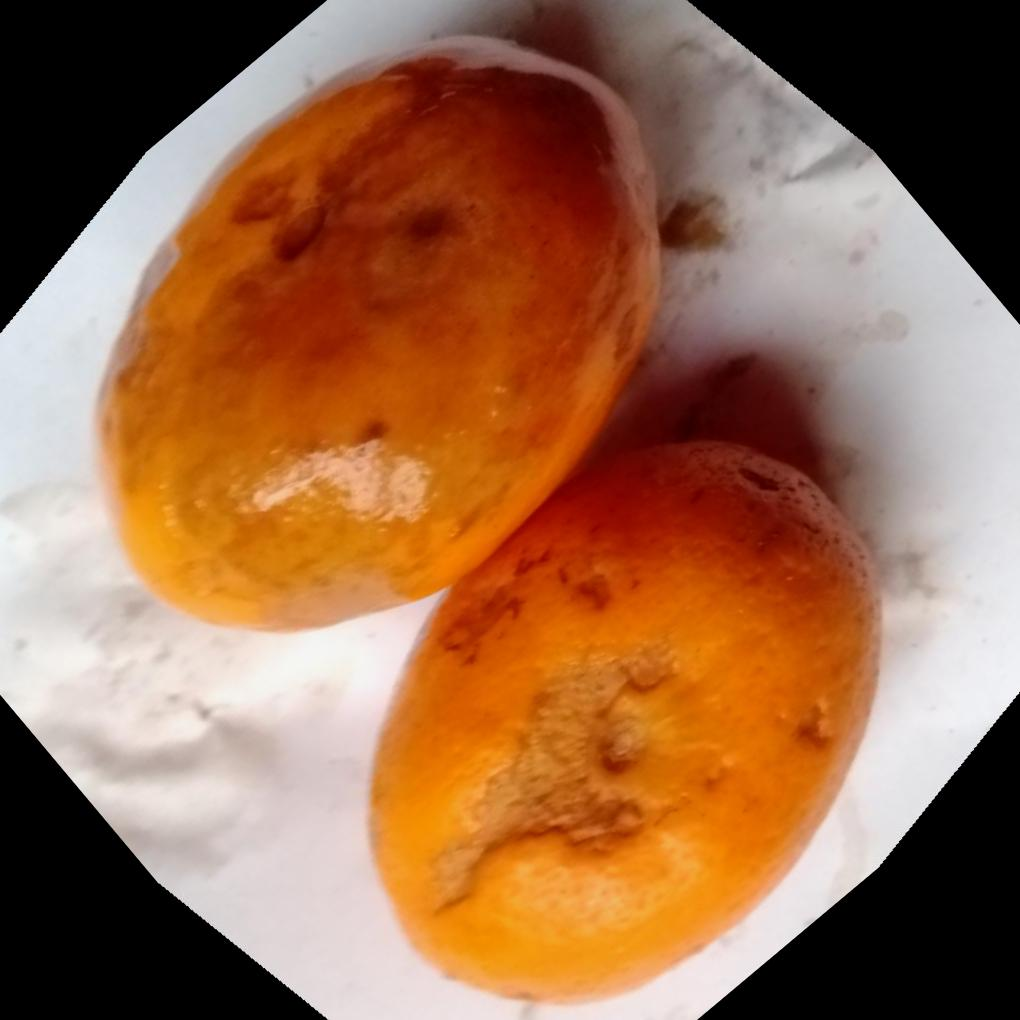FreshOrange: (94, 28, 883, 1006)
